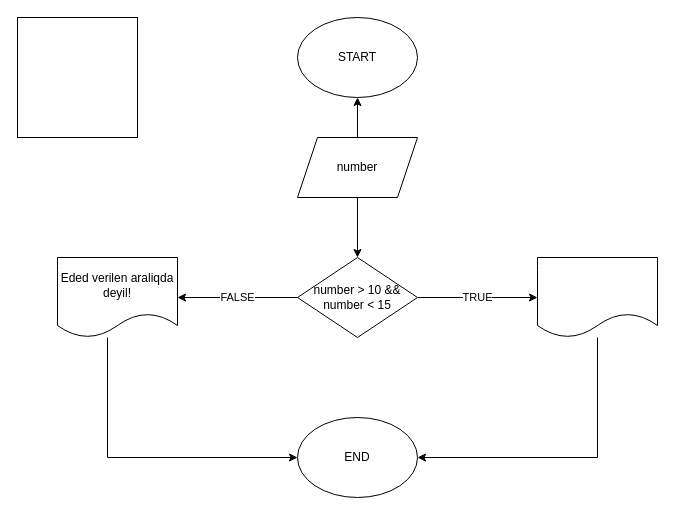
The diagram is 675 pixels wide and 515 high, and some of its shapes have lost their labels. Each missing label, with the centre of its shape:
"10 ve 15 ile muqayise." belongs at [77,77].
"Eded verilen araliqdadir!" belongs at [597,297].
